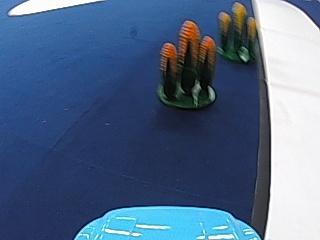corn: (156, 21, 219, 111), (216, 5, 257, 64)
